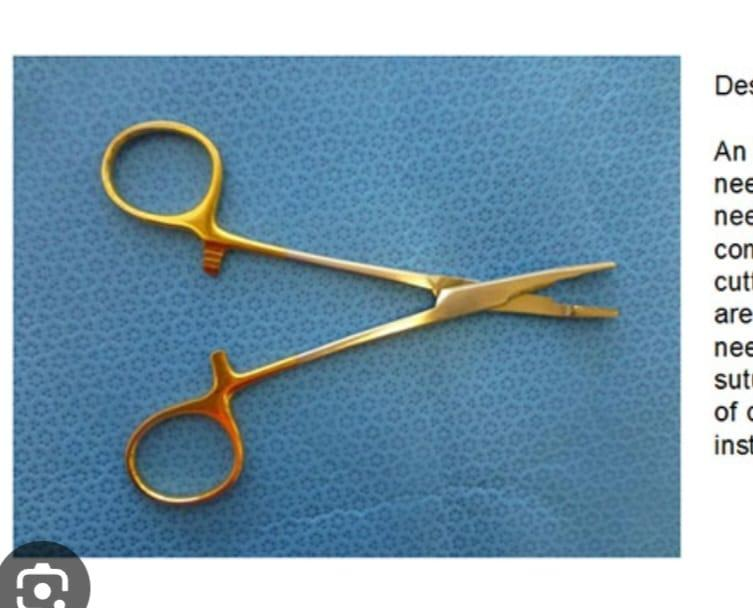Needle Holder: (87, 117, 627, 509)
